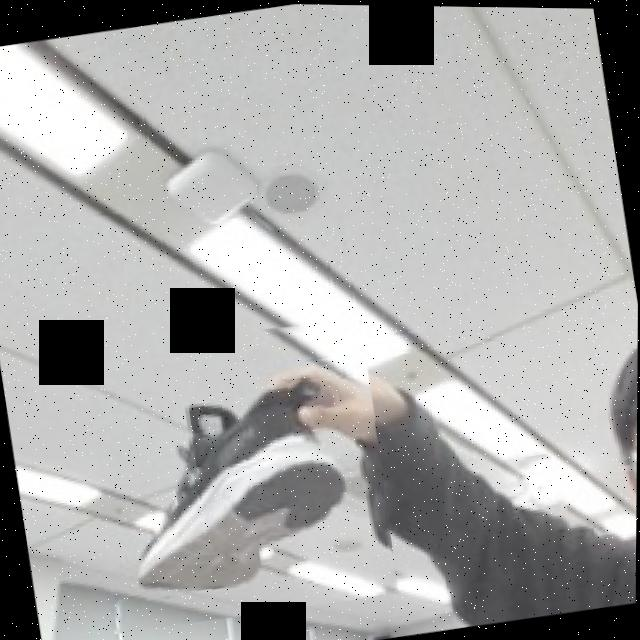shoe: (67, 299, 405, 637)
